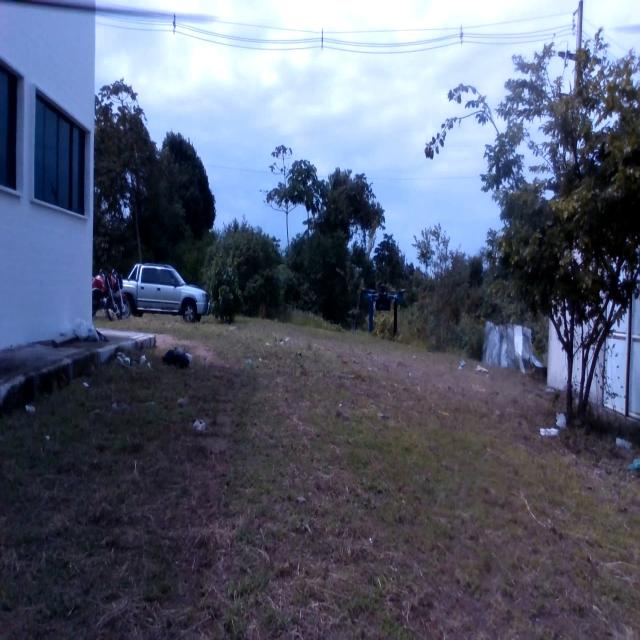-uav-: (356, 281, 411, 341)
